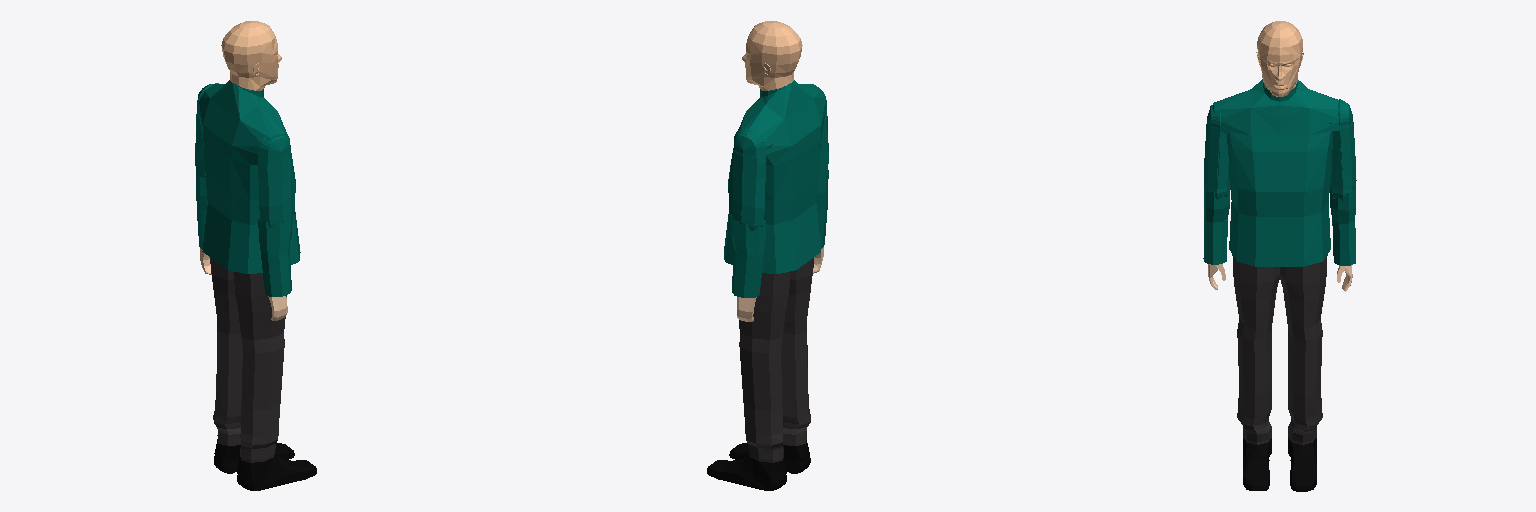
robot.urdf — human:
<?xml version="1.0"?>
<robot name="human">
    <link name="world"/>
        <joint name="root_joint" type="fixed">
        <parent link="world"/>
        <child link="shoes"/>
        <origin rpy="0 -1.570796327 0" xyz="0 0 0.052"/>
    </joint>
    <link name="shoes">
        <inertial>
            <origin xyz="0.000000 0.000000 0.000000" rpy="-3.141593 3.141593 -3.141593" />
            <inertia ixz="0.0" iyz="0.0" izz="0.024031929671764" ixy="0.0" ixx="0.024031929671764" iyy="0.024031929671764" />
            <mass value="13.795380592346" />
        </inertial>
        <visual>
            <origin xyz="0.000000 0.000000 0.000000" rpy="-3.141593 3.141593 -3.141593" />
            <geometry>
                <mesh filename="package://safemotions/description/meshes/human/visual/shoes.obj" />
            </geometry>
            <material name="black">
                <color rgba="0.075 0.075 0.075 1"/>
            </material>
        </visual>
        <collision>
            <origin xyz="0.000000 0.000000 0.000000" rpy="-3.141593 3.141593 -3.141593" />
            <geometry>
                <mesh filename="package://safemotions/description/meshes/human/collision/shoes.obj" />
            </geometry>
        </collision>
    </link>
    <joint name="lower_legs_joint" type="fixed">
        <parent link="shoes" />
        <child link="lower_legs" />
        <origin xyz="0.226045 -0.000026 0.065428" rpy="3.063469 4.675216 -3.063484" />
    </joint>
    <link name="lower_legs">
        <inertial>
            <origin xyz="0.000000 0.000000 0.000000" rpy="-3.141593 3.141593 -3.141593" />
            <inertia ixz="0.0" iyz="0.0" izz="0.00801064632833" ixy="0.0" ixx="0.00801064632833" iyy="0.00801064632833" />
            <mass value="4.5984616279602" />
        </inertial>
        <visual>
            <origin xyz="0.000000 0.000000 0.000000" rpy="-3.141593 3.141593 -3.141593" />
            <geometry>
                <mesh filename="package://safemotions/description/meshes/human/visual/lower_legs.obj" />
            </geometry>
            <material name="dark_gray">
                <color rgba="0.243137255 0.22745098 0.231372549 1"/>
            </material>
        </visual>
        <collision>
            <origin xyz="0.000000 0.000000 0.000000" rpy="-3.141593 3.141593 -3.141593" />
            <geometry>
                <mesh filename="package://safemotions/description/meshes/human/collision/lower_legs.obj" />
            </geometry>
        </collision>
    </link>
    <joint name="upper_legs_joint" type="fixed">
        <parent link="lower_legs" />
        <child link="upper_legs" />
        <origin xyz="0.005358 -0.000019 -0.395960" rpy="3.141559 3.048088 0.000046" />
    </joint>
    <link name="upper_legs">
        <inertial>
            <origin xyz="0.000000 0.000000 0.000000" rpy="-3.141593 3.141593 -3.141593" />
            <inertia ixz="0.0" iyz="0.0" izz="0.00801064632833" ixy="0.0" ixx="0.00801064632833" iyy="0.00801064632833" />
            <mass value="4.5984616279602" />
        </inertial>
        <visual>
            <origin xyz="0.000000 0.000000 0.000000" rpy="-3.141593 3.141593 -3.141593" />
            <geometry>
                <mesh filename="package://safemotions/description/meshes/human/visual/upper_legs.obj" />
            </geometry>
            <material name="dark_gray">
                <color rgba="0.243137255 0.22745098 0.231372549 1"/>
            </material>
        </visual>
        <collision>
            <origin xyz="0.000000 0.000000 0.000000" rpy="-3.141593 3.141593 -3.141593" />
            <geometry>
                <mesh filename="package://safemotions/description/meshes/human/collision/upper_legs.obj" />
            </geometry>
        </collision>
    </link>
    <joint name="body_joint" type="fixed">
        <parent link="upper_legs" />
        <child link="body" />
        <origin xyz="0.008874 -0.000555 -0.471846" rpy="-3.141499 3.135304 3.137044" />
    </joint>
    <link name="body">
        <inertial>
            <origin xyz="0.000000 0.000000 0.000000" rpy="-3.141593 3.141593 -3.141593" />
            <inertia ixz="0.0" iyz="0.0" izz="0.00801064632833" ixy="0.0" ixx="0.00801064632833" iyy="0.00801064632833" />
            <mass value="4.5984616279602" />
        </inertial>
        <visual>
            <origin xyz="0.000000 0.000000 0.000000" rpy="-3.141593 3.141593 -3.141593" />
            <geometry>
                <mesh filename="package://safemotions/description/meshes/human/visual/body.dae" />
            </geometry>
            <material name="green">
                <color rgba="0.039215686 0.447058824 0.4 1"/>
            </material>
        </visual>
        <collision>
            <origin xyz="0.000000 0.000000 0.000000" rpy="-3.141593 3.141593 -3.141593" />
            <geometry>
                <mesh filename="package://safemotions/description/meshes/human/collision/body.obj" />
            </geometry>
        </collision>
    </link>
    <joint name="head_joint" type="fixed">
        <axis xyz="0 0 1" />
        <parent link="body" />
        <child link="head" />
        <origin xyz="0.047869 0.000109 -0.387776" rpy="0.000137 3.204324 -3.139991" />
    </joint>
    <link name="head">
        <inertial>
            <origin xyz="0.000000 0.000000 0.000000" rpy="-3.141593 3.141593 -3.141593" />
            <inertia ixz="0.0" iyz="0.0" izz="0.044059336185455" ixy="0.0" ixx="0.044059336185455" iyy="0.044059336185455" />
            <mass value="25.291988372803" />
        </inertial>
        <visual>
            <origin xyz="0.000000 0.000000 0.000000" rpy="-3.141593 3.141593 -3.141593" />
            <geometry>
                <mesh filename="package://safemotions/description/meshes/human/visual/head.obj" />
            </geometry>
            <material name="skin">
                <color rgba="0.952941176 0.764705882 0.607843137 1"/>
            </material>
        </visual>
        <collision>
            <origin xyz="0.000000 0.000000 0.000000" rpy="-3.141593 3.141593 -3.141593" />
            <geometry>
                <mesh filename="package://safemotions/description/meshes/human/collision/head.obj" />
            </geometry>
        </collision>
    </link>
    <joint name="upper_arm_flexion_joint_r0" type="revolute">
        <axis xyz="0 0 1"/>
        <limit effort="240" lower="-0.5" upper="1.2" velocity="1.710422666954443"/>
        <parent link="body"/>
        <child link="upper_arm_dummy_0_r0"/>
        <origin xyz="0 -0.210366 -0.175144" rpy="0.000137 3.204324 -3.139991" />
        <dynamics damping="0.5"/>
    </joint>
    <link name="upper_arm_dummy_0_r0">
        <inertial>
            <origin rpy="0 0 0" xyz="0 0 0"/>
            <mass value="0.00"/>
            <inertia ixx="0.0" ixy="0" ixz="0" iyy="0.0" iyz="0" izz="0.0"/>
        </inertial>
        <visual>
            <origin rpy="0 0 0" xyz="0 0 0"/>
            <geometry>
                <sphere radius="0.00001"/>
            </geometry>
        </visual>
        <collision>
            <origin rpy="0 0 0" xyz="0 0 0"/>
            <geometry>
                <sphere radius="0.00001"/>
            </geometry>
        </collision>
    </link>
    <joint name="upper_arm_adduction_joint_r0" type="revolute">
        <parent link="upper_arm_dummy_0_r0"/>
        <child link="upper_arm_dummy_1_r0"/>
        <origin rpy="0 0 0" xyz="0 0 0"/>
        <axis xyz="-1 0 0"/>
        <limit effort="240" lower="-1.4" upper="0.1" velocity="1.710422666954443"/>
        <dynamics damping="0.5"/>
    </joint>
    <link name="upper_arm_dummy_1_r0">
        <inertial>
            <origin rpy="0 0 0" xyz="0 0 0"/>
            <mass value="0.00"/>
            <inertia ixx="0.0" ixy="0" ixz="0" iyy="0.0" iyz="0" izz="0.0"/>
        </inertial>
        <visual>
            <origin rpy="0 0 0" xyz="0 0 0"/>
            <geometry>
                <sphere radius="0.00001"/>
            </geometry>
        </visual>
        <collision>
            <origin rpy="0 0 0" xyz="0 0 0"/>
            <geometry>
                <sphere radius="0.00001"/>
            </geometry>
        </collision>
    </link>
    <joint name="upper_arm_rotation_joint_r0" type="revolute">
        <parent link="upper_arm_dummy_1_r0"/>
        <child link="upper_arm_r0"/>
        <origin rpy="0 0 0" xyz="0 0 0"/>
        <axis xyz="0 -1 0"/>
        <limit effort="240" lower="-0.2" upper="1.5708" velocity="1.710422666954443"/>
        <dynamics damping="0.5"/>
    </joint>
    <link name="upper_arm_r0">
        <inertial>
            <origin xyz="0.000000 0.000000 -0.18" rpy="-3.141593 3.141593 -3.141593" />
            <inertia ixz="0.0" iyz="0.0" izz="0.004005323164165" ixy="0.0" ixx="0.004005323164165" iyy="0.004005323164165" />
            <mass value="2.2992308139801" />
        </inertial>
        <visual>
            <origin xyz="0.000000 0.000000 -0.18" rpy="-3.141593 3.141593 -3.141593" />
            <geometry>
                <mesh filename="package://safemotions/description/meshes/human/visual/left_upper_arm.dae" />
            </geometry>
            <material name="green">
                <color rgba="0.039215686 0.447058824 0.4 1"/>
            </material>
        </visual>
        <collision>
            <origin xyz="0.000000 0.000000 -0.18" rpy="-3.141593 3.141593 -3.141593" />
            <geometry>
                <mesh filename="package://safemotions/description/meshes/human/collision/left_upper_arm.obj" />
            </geometry>
        </collision>
    </link>
    <joint name="forearm_joint_r0" type="revolute">
        <axis xyz="1 0 0" />
        <limit effort="240" lower="-2.6179938316345" upper="0.087266445159912" velocity="1.710422666954443" />
        <parent link="upper_arm_r0" />
        <child link="forearm_r0" />
        <origin xyz="0.001 0.004 -0.276004" rpy="3.110507 3.158808 -1.535590" />
    </joint>
    <link name="forearm_r0">
        <inertial>
            <origin xyz="0.000000 0.000000 -0.1900000" rpy="-3.141593 3.141593 -3.041593" />
            <inertia ixz="0.0" iyz="0.0" izz="0.00801064632833" ixy="0.0" ixx="0.00801064632833" iyy="0.00801064632833" />
            <mass value="4.0" />
        </inertial>
        <visual>
            <origin xyz="0.000000 0.000000 -0.1900000" rpy="-3.141593 3.141593 -3.241593" />
            <geometry>
                <mesh filename="package://safemotions/description/meshes/human/visual/left_forearm.dae" />
            </geometry>
            <material name="green">
                <color rgba="0.039215686 0.447058824 0.4 1"/>
            </material>
        </visual>
        <collision>
            <origin xyz="0.000000 0.000000 -0.190000" rpy="-3.141593 3.141593 -3.241593" />
            <geometry>
                <mesh filename="package://safemotions/description/meshes/human/collision/left_forearm.obj" />
            </geometry>
        </collision>
    </link>
    <joint name="hand_joint_r0" type="fixed">
        <parent link="forearm_r0" />
        <child link="hand_r0" />
        <origin xyz="0 0 -0.19" rpy="0 0 0" />
    </joint>
    <link name="hand_r0">
        <inertial>
            <origin xyz="0.000000 0.000000 0.000000" rpy="-3.141593 3.141593 -3.241593" />
            <inertia ixz="0.0" iyz="0.0" izz="0.00801064632833" ixy="0.0" ixx="0.00801064632833" iyy="0.00801064632833" />
            <mass value="0.5984616279602" />
        </inertial>
        <visual>
            <origin xyz="0.000000 0.000000 0.000000" rpy="-3.141593 3.141593 -3.141593" />
            <geometry>
                <mesh filename="package://safemotions/description/meshes/human/visual/left_hand.dae" />
            </geometry>
            <material name="skin_2">
                <color rgba="1.0 0.847058824 0.721568627 1"/>
            </material>
        </visual>
        <collision>
            <origin xyz="0.000000 0.000000 0.000000" rpy="-3.141593 3.141593 -3.141593" />
            <geometry>
                <mesh filename="package://safemotions/description/meshes/human/collision/left_hand.obj" />
            </geometry>
        </collision>
    </link>
    <joint name="upper_arm_flexion_joint_r1" type="revolute">
        <parent link="body"/>
        <child link="upper_arm_dummy_0_r1"/>
        <origin xyz="-0.000 0.210776 -0.18" rpy="0.000137 3.204337 -3.139991"/>
        <axis xyz="0 0 1"/>
        <limit effort="240" lower="-1.2" upper="0.5" velocity="1.710422666954443"/>
        <dynamics damping="0.5"/>
    </joint>
    <link name="upper_arm_dummy_0_r1">
        <inertial>
            <origin rpy="0 0 0" xyz="0 0 0"/>
            <mass value="0.00"/>
            <inertia ixx="0.0" ixy="0" ixz="0" iyy="0.0" iyz="0" izz="0.0"/>
        </inertial>
        <visual>
            <origin rpy="0 0 0" xyz="0 0 0"/>
            <geometry>
                <sphere radius="0.00001"/>
            </geometry>
        </visual>
        <collision>
            <origin rpy="0 0 0" xyz="0 0 0"/>
            <geometry>
                <sphere radius="0.00001"/>
            </geometry>
        </collision>
    </link>
    <joint name="upper_arm_adduction_joint_r1" type="revolute">
        <parent link="upper_arm_dummy_0_r1"/>
        <child link="upper_arm_dummy_1_r1"/>
        <origin rpy="0 0 0" xyz="0 0 0"/>
        <axis xyz="1 0 0"/>
        <limit effort="240" lower="-1.4" upper="0.1" velocity="1.710422666954443"/>
        <dynamics damping="0.5"/>
    </joint>
    <link name="upper_arm_dummy_1_r1">
        <inertial>
            <origin rpy="0 0 0" xyz="0 0 0"/>
            <mass value="0.00"/>
            <inertia ixx="0.0" ixy="0" ixz="0" iyy="0.0" iyz="0" izz="0.0"/>
        </inertial>
        <visual>
            <origin rpy="0 0 0" xyz="0 0 0"/>
            <geometry>
                <sphere radius="0.00001"/>
            </geometry>
        </visual>
        <collision>
            <origin rpy="0 0 0" xyz="0 0 0"/>
            <geometry>
                <sphere radius="0.00001"/>
            </geometry>
        </collision>
    </link>
    <joint name="upper_arm_rotation_joint_r1" type="revolute">
        <parent link="upper_arm_dummy_1_r1"/>
        <child link="upper_arm_r1"/>
        <origin rpy="0 0 0" xyz="0 0 0"/>
        <axis xyz="0 1 0"/>
        <limit effort="240" lower="-1.5708" upper="0.2" velocity="1.710422666954443"/>
        <dynamics damping="0.5"/>
    </joint>
    <link name="upper_arm_r1">
        <inertial>
            <origin xyz="0.000000 0.000000 -0.18000" rpy="-3.141593 3.141593 -3.141593" />
            <inertia ixz="0.0" iyz="0.0" izz="0.004005323164165" ixy="0.0" ixx="0.004005323164165" iyy="0.004005323164165" />
            <mass value="2.2992308139801" />
        </inertial>
        <visual>
            <origin xyz="0.000000 0.000000 -0.18000" rpy="-3.141593 3.141593 -3.141593" />
            <geometry>
                <mesh filename="package://safemotions/description/meshes/human/visual/right_upper_arm.dae" />
            </geometry>
            <material name="green">
                <color rgba="0.039215686 0.447058824 0.4 1"/>
            </material>
        </visual>
        <collision>
            <origin xyz="0.000000 0.000000 -0.180000" rpy="-3.141593 3.141593 -3.141593" />
            <geometry>
                <mesh filename="package://safemotions/description/meshes/human/collision/right_upper_arm.obj" />
            </geometry>
        </collision>
    </link>
    <joint name="forearm_joint_r1" type="revolute">
        <axis xyz="-1 0 0" />
        <limit effort="240" lower="-2.6179938316345" upper="0.087266445159912" velocity="1.710422666954443" />
        <parent link="upper_arm_r1" />
        <child link="forearm_r1" />
        <origin xyz="0.00 -0.005 -0.276027" rpy="-3.109365 3.149818 1.581327" />
    </joint>
    <link name="forearm_r1">
        <inertial>
            <origin xyz="0.000000 0.000000 -0.190000" rpy="-3.141593 3.141593 -3.141593" />
            <inertia ixz="0.0" iyz="0.0" izz="0.00801064632833" ixy="0.0" ixx="0.00801064632833" iyy="0.00801064632833" />
            <mass value="4.0" />
        </inertial>
        <visual>
            <origin xyz="0.000000 0.000000 -0.190000" rpy="-3.141593 3.141593 -3.041593" />
            <geometry>
                <mesh filename="package://safemotions/description/meshes/human/visual/right_forearm.dae" />
            </geometry>
            <material name="green">
                <color rgba="0.039215686 0.447058824 0.4 1"/>
            </material>
        </visual>
        <collision>
            <origin xyz="0.000000 0.000000 -0.190000" rpy="-3.141593 3.141593 -3.041593" />
            <geometry>
                <mesh filename="package://safemotions/description/meshes/human/collision/right_forearm.obj" />
            </geometry>
        </collision>
    </link>
    <joint name="hand_joint_r1" type="fixed">
        <parent link="forearm_r1" />
        <child link="hand_r1" />
        <origin xyz="0 0 -0.19" rpy="0 0 0" />
    </joint>
    <link name="hand_r1">
        <inertial>
            <origin xyz="0.000000 0.000000 0.000000" rpy="-3.141593 3.141593 -3.141593" />
            <inertia ixz="0.0" iyz="0.0" izz="0.00801064632833" ixy="0.0" ixx="0.00801064632833" iyy="0.00801064632833" />
            <mass value="0.5984616279602" />
        </inertial>
        <visual>
            <origin xyz="0.000000 0.000000 0.000000" rpy="-3.141593 3.141593 -3.041593" />
            <geometry>
                <mesh filename="package://safemotions/description/meshes/human/visual/right_hand.dae" />
            </geometry>
            <material name="skin_2">
                <color rgba="1.0 0.847058824 0.721568627 1"/>
            </material>
        </visual>
        <collision>
            <origin xyz="0.000000 0.000000 0.000000" rpy="-3.141593 3.141593 -3.041593" />
            <geometry>
                <mesh filename="package://safemotions/description/meshes/human/collision/right_hand.obj" />
            </geometry>
        </collision>
    </link>
</robot>

--- Render facts (derived) ---
3 views of the same robot in one strip: view 1: azimuth 30°, elevation 25°; view 2: azimuth 150°, elevation 25°; view 3: azimuth 270°, elevation 25° (orthographic).
Robot: human — 16 links, 15 joints (8 revolute, 7 fixed); root link world; default pose: every joint at zero.
Links seen in each view (by area): view 1: body, lower_legs, upper_legs, head, shoes, upper_arm_r1, forearm_r1, forearm_r0, upper_arm_r0; view 2: body, lower_legs, upper_legs, head, upper_arm_r0, shoes, forearm_r0, forearm_r1; view 3: body, lower_legs, upper_legs, head, shoes, upper_arm_r0, upper_arm_r1, forearm_r1, forearm_r0.
Link boxes in pixels (x1,y1,x2,y2): body: (198,80,300,273); lower_legs: (213,332,284,462); upper_legs: (210,258,286,353); head: (221,21,281,90); shoes: (214,439,316,490); upper_arm_r1: (258,132,291,227); forearm_r1: (258,213,292,296); forearm_r0: (196,175,207,249); upper_arm_r0: (195,83,218,180); body: (724,80,825,273); lower_legs: (740,332,810,462); upper_legs: (739,258,813,353); head: (742,21,802,90); upper_arm_r0: (732,128,766,230); shoes: (707,440,810,490); forearm_r0: (731,215,765,297); forearm_r1: (817,170,828,248); body: (1211,79,1352,266); lower_legs: (1237,331,1322,444); upper_legs: (1232,255,1327,340); head: (1256,21,1303,96); shoes: (1243,438,1316,491); upper_arm_r0: (1330,99,1356,200); upper_arm_r1: (1204,105,1229,199); forearm_r1: (1203,187,1229,264); forearm_r0: (1330,189,1355,265).
Size in the robot's own frame: 0.341 by 0.5253 by 1.68 metres.
Meshes: 11 distinct files referenced, 11 mesh visuals loaded (7 Collada DAE, 4 OBJ).